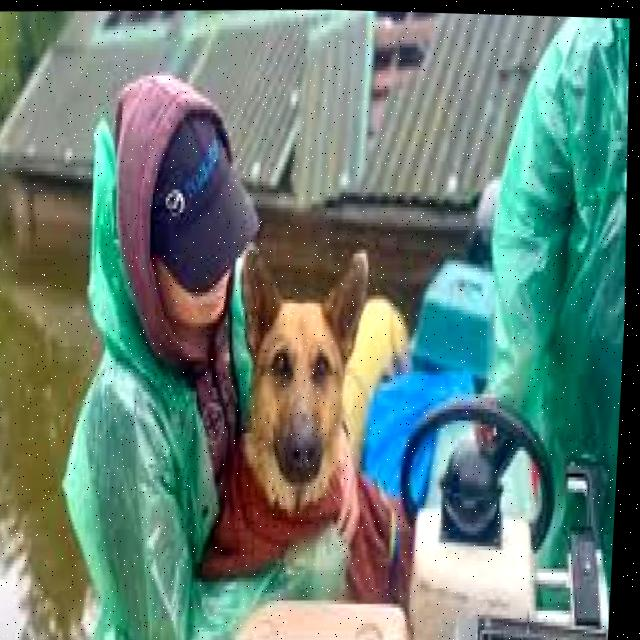civilian: (47, 88, 392, 640)
dog: (199, 248, 405, 560)
